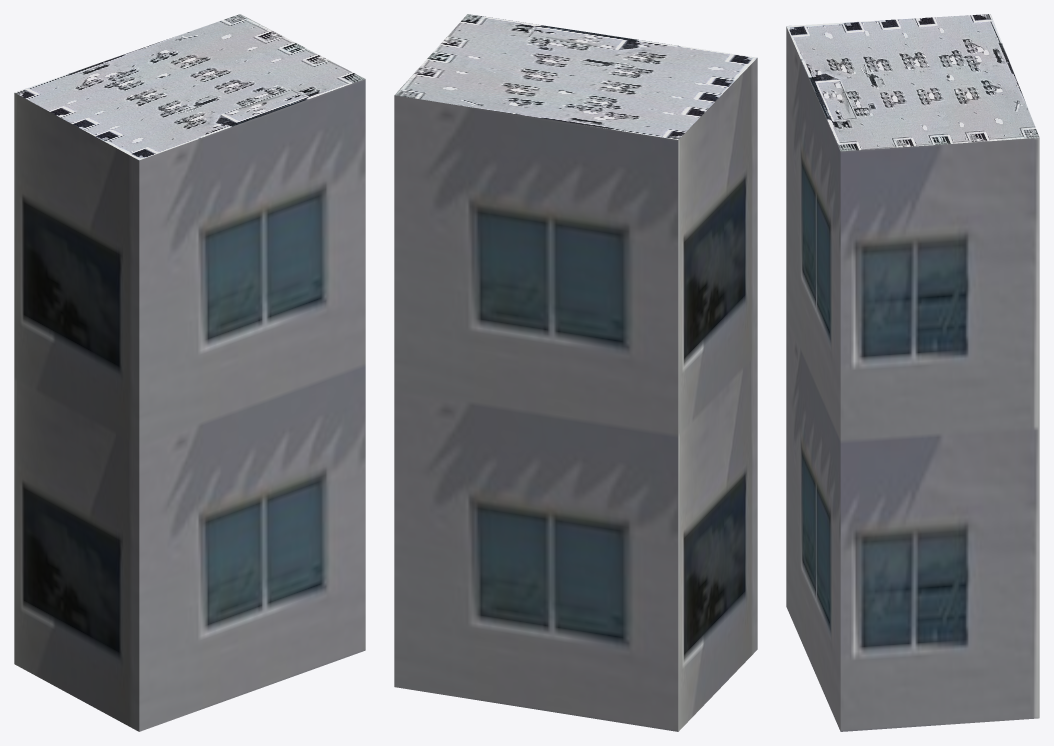
Rendered from ResTex__2644.fbx.
3 renders of one model, left to right at view 1: azimuth 30°, elevation 25°; view 2: azimuth 150°, elevation 25°; view 3: azimuth 270°, elevation 25°, orthographic. The views are drawn at different scales.
Visible parts, largest first — view 1: CityEngineMaterial_10_m, CityEngineMaterial_4_m; view 2: CityEngineMaterial_10_m, CityEngineMaterial_4_m; view 3: CityEngineMaterial_10_m, CityEngineMaterial_4_m.
Boxes of the visible parts, left/top/right/bottom form: CityEngineMaterial_10_m: left=14, top=79, right=365, bottom=731; CityEngineMaterial_4_m: left=15, top=14, right=364, bottom=160; CityEngineMaterial_10_m: left=394, top=58, right=757, bottom=731; CityEngineMaterial_4_m: left=394, top=14, right=756, bottom=139; CityEngineMaterial_10_m: left=786, top=27, right=1039, bottom=731; CityEngineMaterial_4_m: left=786, top=14, right=1039, bottom=151.
Bounding box in the file's own units: 3.05 × 6 × 2.38.
Materials: 2 (2 with a texture image).
